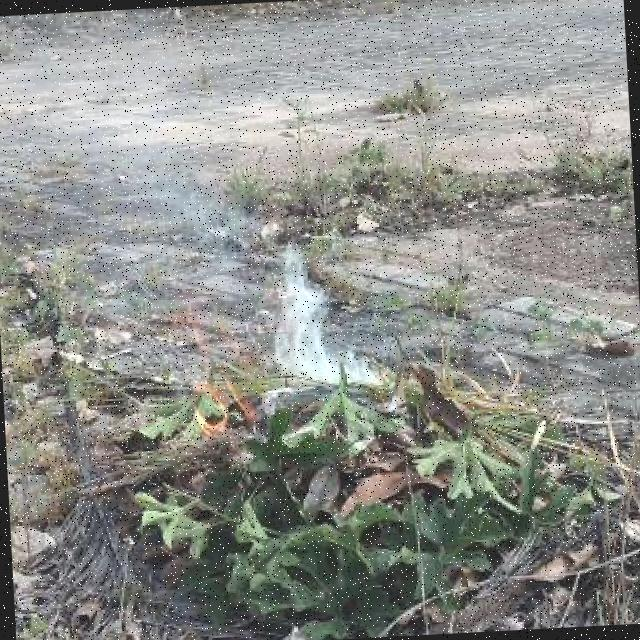Fire: (185, 377, 232, 437)
Smoke: (262, 240, 365, 395)
